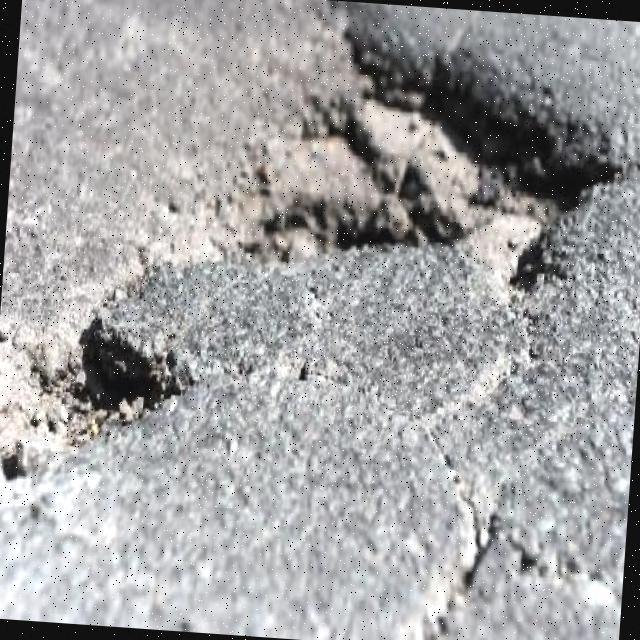Pothole: (0, 20, 640, 491)
